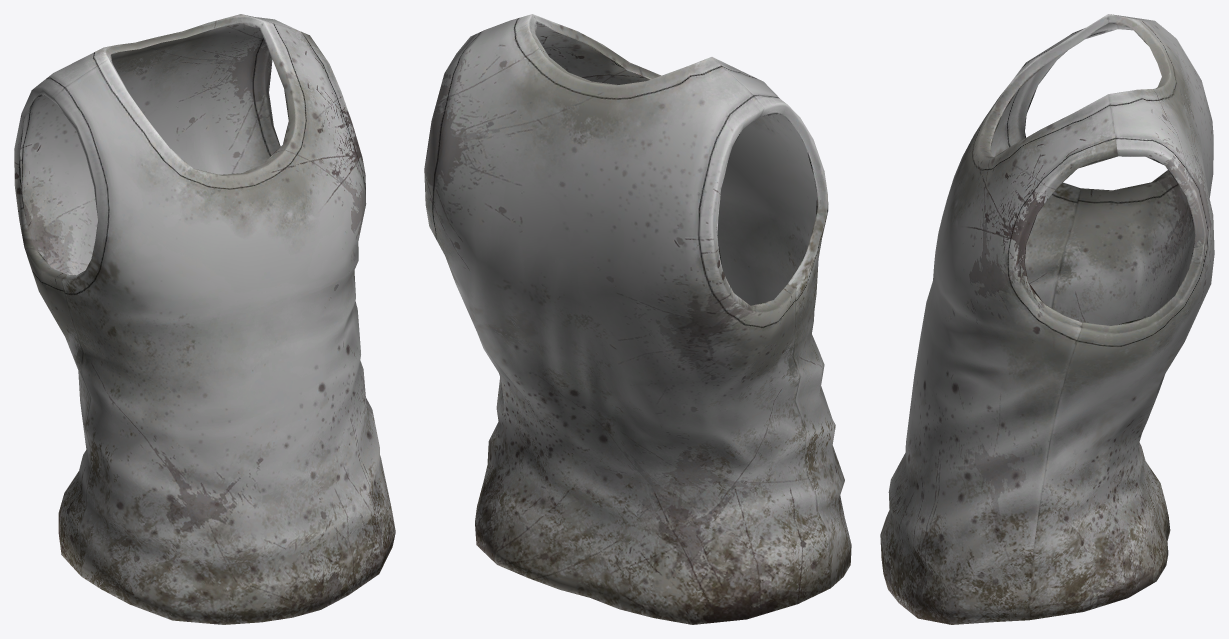
The model's file is SurvivorMale_Chest_Shirt_TankTop_LOD0.glb.
The picture shows the model from 3 angles, left to right: view 1: azimuth 30°, elevation 25°; view 2: azimuth 150°, elevation 25°; view 3: azimuth 270°, elevation 25°; orthographic projection. The views are drawn at different scales.
Parts seen in each view (by area): view 1: Hoodie; view 2: Hoodie; view 3: Hoodie.
Boxes of the visible parts, x1,y1,x2,y2 form: Hoodie: (14,14,395,624); Hoodie: (424,14,851,624); Hoodie: (880,14,1214,624).
Bounding box in the file's own units: 0.366 × 0.606 × 0.3523.
Materials: 1 (1 with a texture image).
